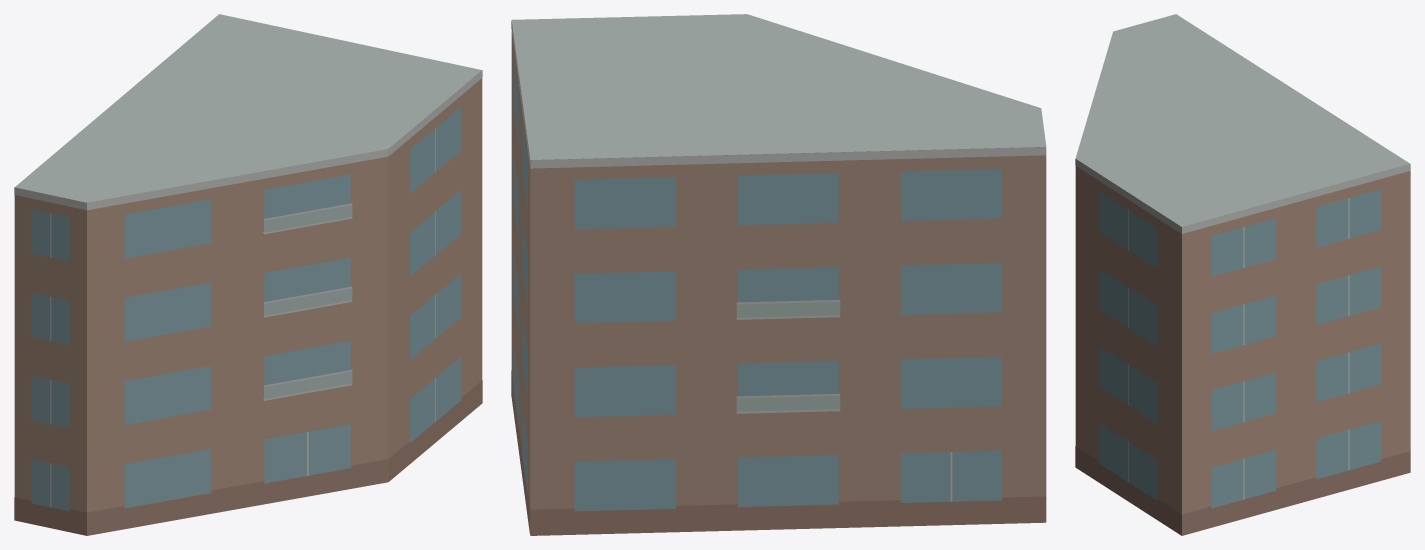
File: survey-upis-32533097.glb
3 renders of one model, left to right at view 1: azimuth 30°, elevation 25°; view 2: azimuth 150°, elevation 25°; view 3: azimuth 270°, elevation 25°, orthographic. The views are drawn at different scales.
Parts seen in each view (by area): view 1: survey-upis-32533097.tmp; view 2: survey-upis-32533097.tmp; view 3: survey-upis-32533097.tmp.
Part boxes in pixels (<box>): survey-upis-32533097.tmp: <box>14,14,482,535</box>; survey-upis-32533097.tmp: <box>511,14,1046,535</box>; survey-upis-32533097.tmp: <box>1075,14,1410,535</box>.
Size of the model in its own units: 15.99 by 10.8 by 10.63.
